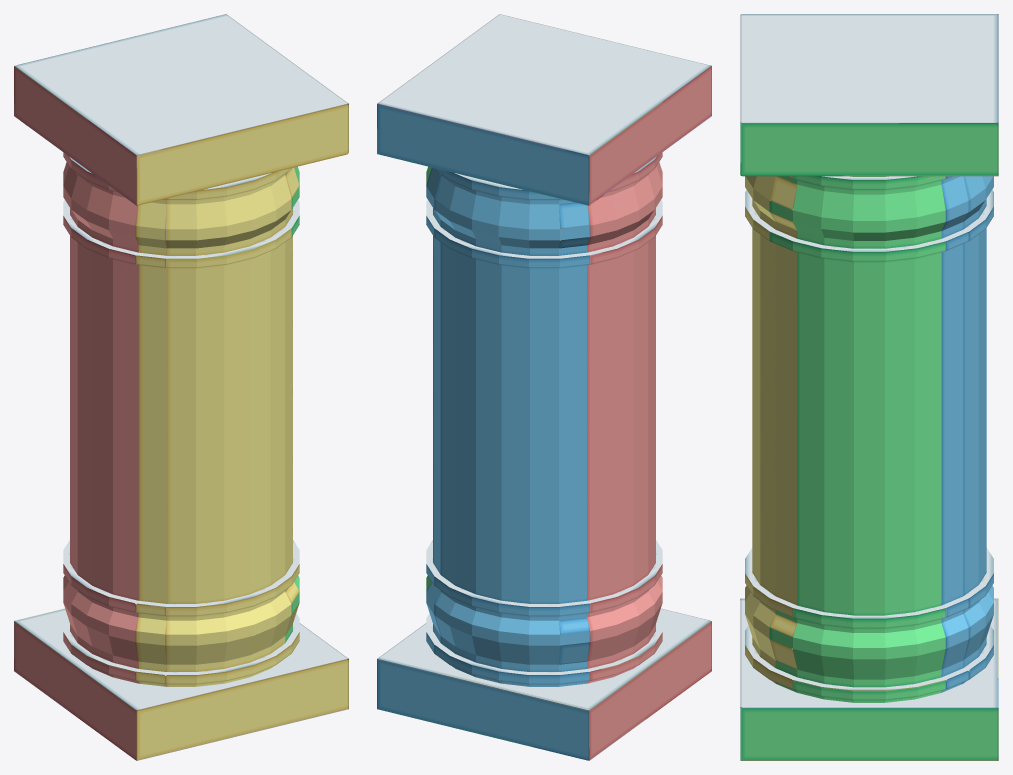
The model's file is Pillar.fbx.
The picture shows the model from 3 angles, left to right: view 1: azimuth 30°, elevation 25°; view 2: azimuth 150°, elevation 25°; view 3: azimuth 270°, elevation 25°; orthographic projection. The views are drawn at different scales.
Visible parts, largest first — view 1: cylinder; view 2: cylinder; view 3: cylinder.
Part boxes in pixels (left/top/right/bottom): cylinder: left=14, top=14, right=348, bottom=760; cylinder: left=377, top=14, right=711, bottom=760; cylinder: left=740, top=14, right=998, bottom=760.
Bounding box in the file's own units: 110 × 300 × 110.
1 material, 1 textured.
